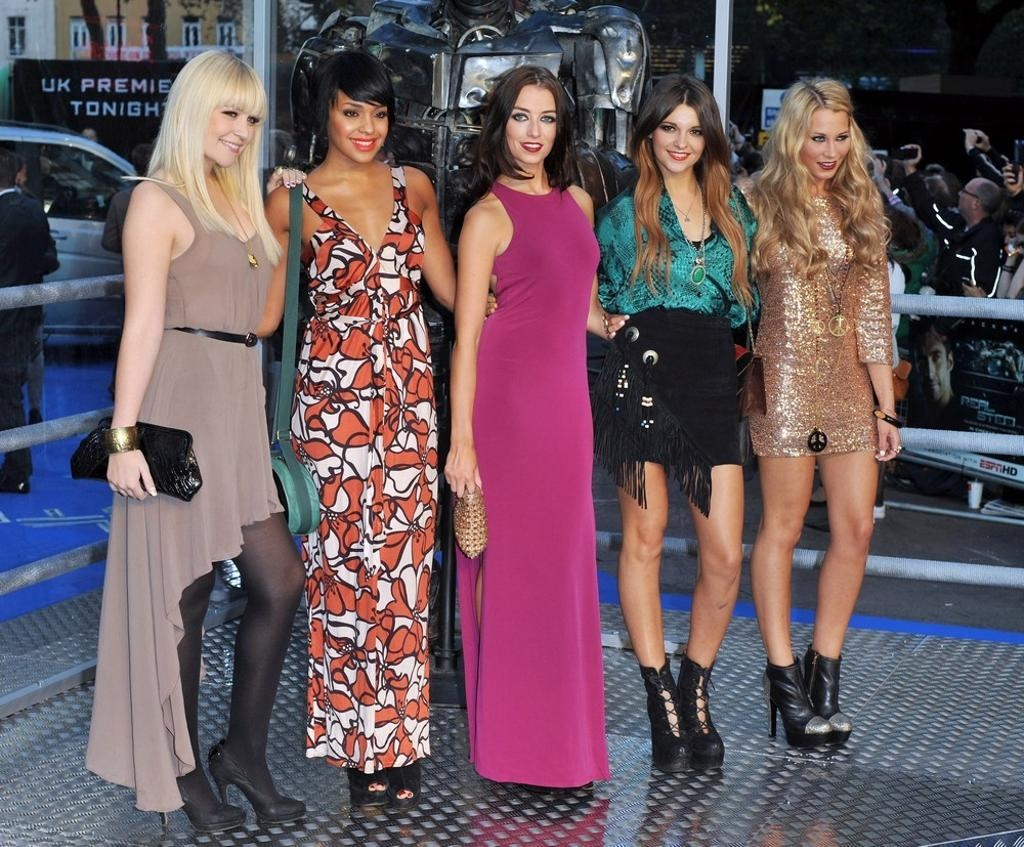human_face: (196, 99, 260, 167), (328, 90, 386, 162), (505, 94, 557, 162), (798, 112, 850, 178), (653, 107, 705, 170), (914, 336, 950, 402), (957, 184, 977, 210), (1002, 225, 1016, 251), (36, 162, 50, 178), (82, 132, 94, 148), (59, 183, 71, 196), (14, 172, 24, 184)
